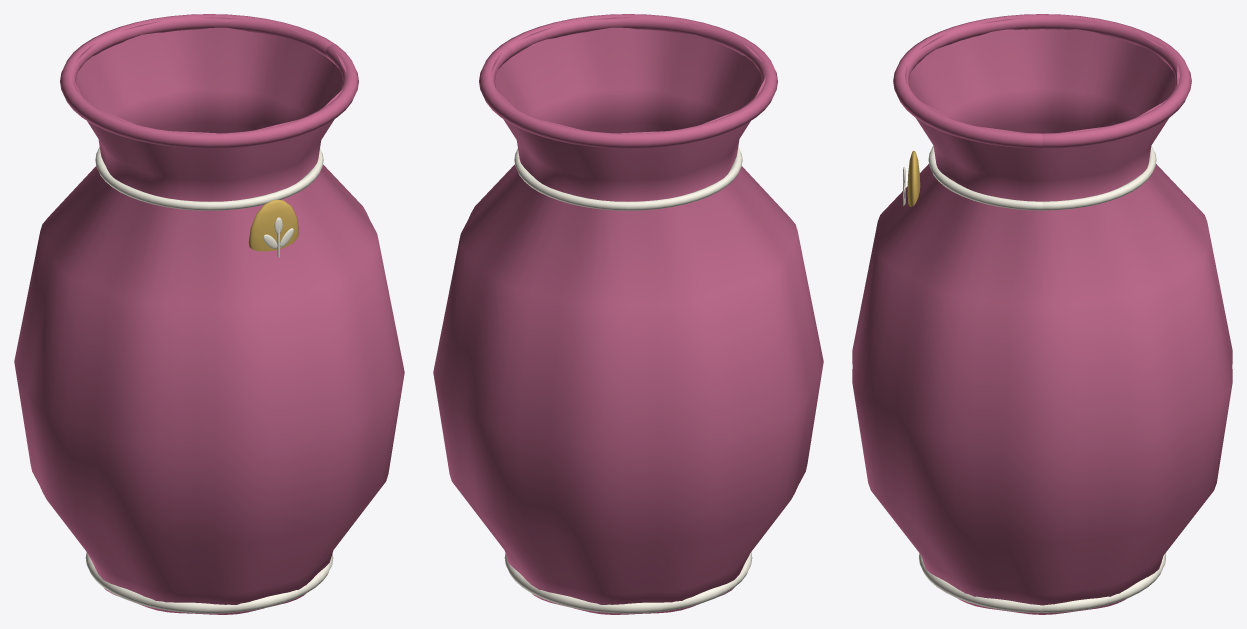
Rendered from stock_vase_rose.glb.
3 renders of one model, left to right at view 1: azimuth 30°, elevation 25°; view 2: azimuth 150°, elevation 25°; view 3: azimuth 270°, elevation 25°, orthographic.
Visible parts, largest first — view 1: Continuous_hollow_vessel, Rolled_open_lip, Base_ring, Ivory_neck_cord, Brass_medallion; view 2: Continuous_hollow_vessel, Rolled_open_lip, Ivory_neck_cord, Base_ring; view 3: Continuous_hollow_vessel, Rolled_open_lip, Ivory_neck_cord, Base_ring, Brass_medallion.
Boxes of the visible parts, x1,y1,x2,y2 form: Continuous_hollow_vessel: (14,17,404,614); Rolled_open_lip: (60,14,358,148); Base_ring: (85,552,333,613); Ivory_neck_cord: (95,147,323,210); Brass_medallion: (248,200,298,251); Continuous_hollow_vessel: (433,17,823,614); Rolled_open_lip: (479,14,777,148); Ivory_neck_cord: (514,147,742,210); Base_ring: (504,552,752,613); Continuous_hollow_vessel: (852,17,1232,614); Rolled_open_lip: (893,14,1191,148); Ivory_neck_cord: (928,145,1156,210); Base_ring: (919,553,1165,612); Brass_medallion: (907,151,920,206).
Size of the model in its own units: 0.2436 by 0.341 by 0.2369.
